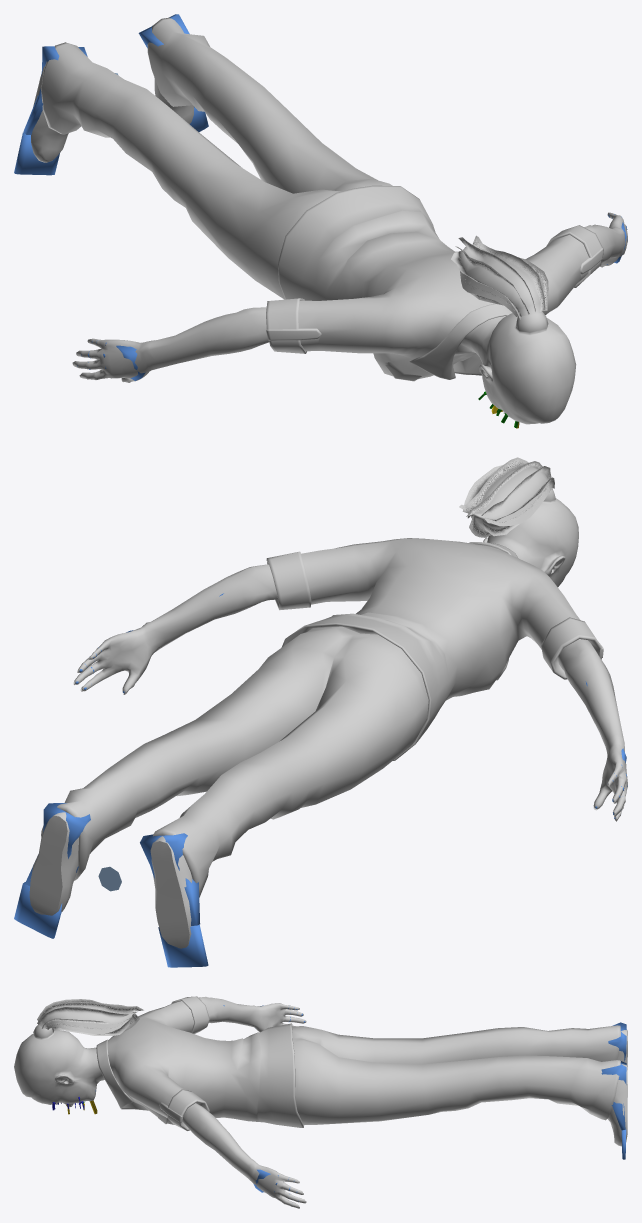
Rendered from f001_hi_max2008.obj.
3 views of the same model, one above another, from view 1: azimuth 30°, elevation 25°; view 2: azimuth 150°, elevation 25°; view 3: azimuth 270°, elevation 25° (orthographic). The views are drawn at different scales.
Parts seen in each view (by area): view 1: f001_hipoly, Bip01_R_Toe0, Bip01_R_Foot; view 2: f001_hipoly, Bip01_R_Foot, Bip01_R_Toe0, Bip01_L_Toe0, Bip01_L_Foot; view 3: f001_hipoly, Bip01_L_Foot.
Part boxes in pixels (box(x1,y1,x2,y2)): f001_hipoly: box(31, 17, 627, 424); Bip01_R_Toe0: box(14, 132, 59, 175); Bip01_R_Foot: box(23, 46, 87, 134); f001_hipoly: box(29, 457, 627, 948); Bip01_R_Foot: box(140, 833, 200, 925); Bip01_R_Toe0: box(158, 924, 208, 967); Bip01_L_Toe0: box(14, 882, 62, 938); Bip01_L_Foot: box(25, 803, 90, 886); f001_hipoly: box(14, 996, 627, 1208); Bip01_L_Foot: box(601, 1061, 626, 1130).
Bounding box in the file's own units: 12.17 × 4.11 × 17.43.
